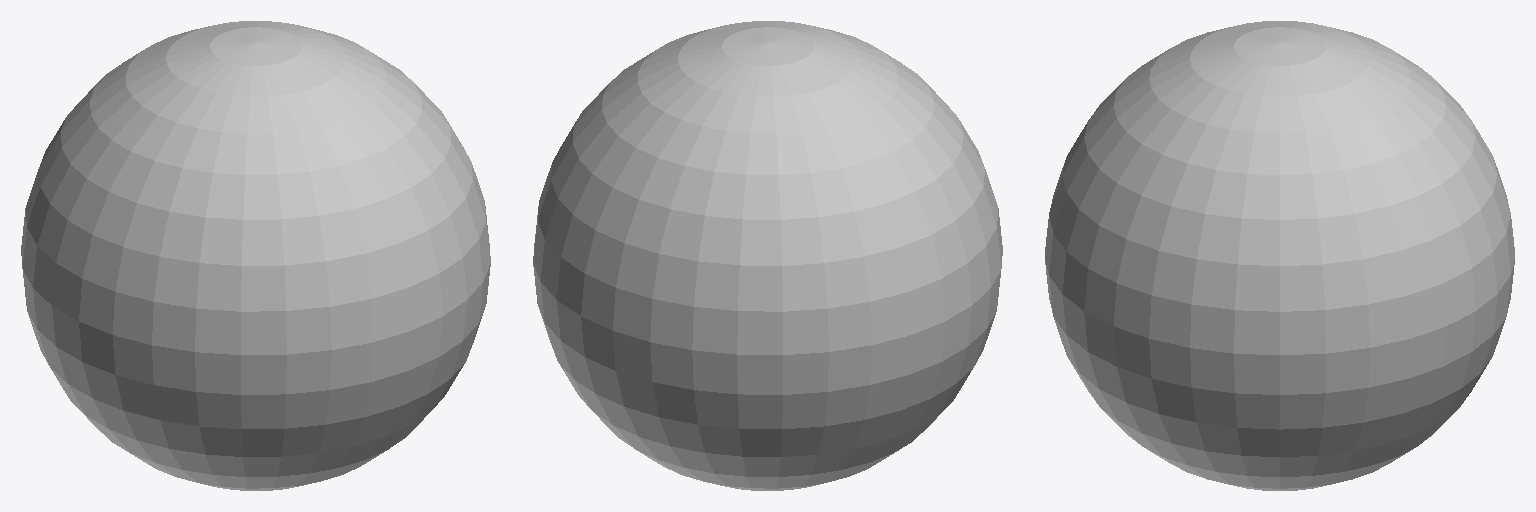
Rendered from sun.obj.
3 views of the same model, side by side, from view 1: azimuth 30°, elevation 25°; view 2: azimuth 150°, elevation 25°; view 3: azimuth 270°, elevation 25° (orthographic).
Visible parts, largest first — view 1: Sphere.001; view 2: Sphere.001; view 3: Sphere.001.
Boxes of the visible parts, box(x1,y1,x2,y2) form: Sphere.001: box(21, 21, 490, 490); Sphere.001: box(533, 21, 1002, 490); Sphere.001: box(1045, 21, 1514, 490).
Bounding box in the file's own units: 4.75 × 4.75 × 4.75.